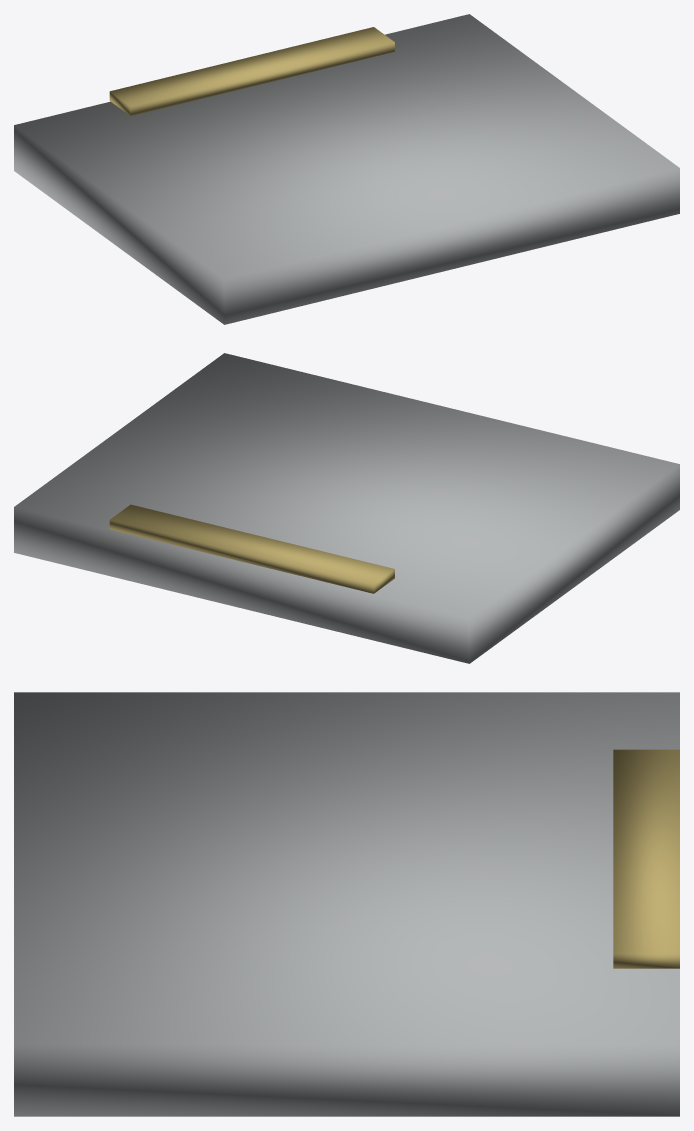
Rendered from floor_w125_d100_open.glb.
The picture shows the model from 3 angles, top to bottom: view 1: azimuth 30°, elevation 25°; view 2: azimuth 150°, elevation 25°; view 3: azimuth 270°, elevation 25°; orthographic projection. The views are drawn at different scales.
Parts seen in each view (by area): view 1: world; view 2: world; view 3: world.
Boxes of the visible parts, bbox=[...] form: world: bbox=[14, 14, 679, 324]; world: bbox=[14, 353, 679, 663]; world: bbox=[14, 692, 679, 1116].
Bounding box in the file's own units: 1.25 × 0.1475 × 1.
